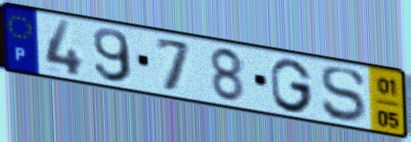4: (42, 17, 88, 79)
7: (155, 36, 195, 95)
8: (208, 46, 249, 105)
9: (90, 27, 134, 85)
G: (268, 56, 315, 114)
S: (318, 66, 368, 124)
